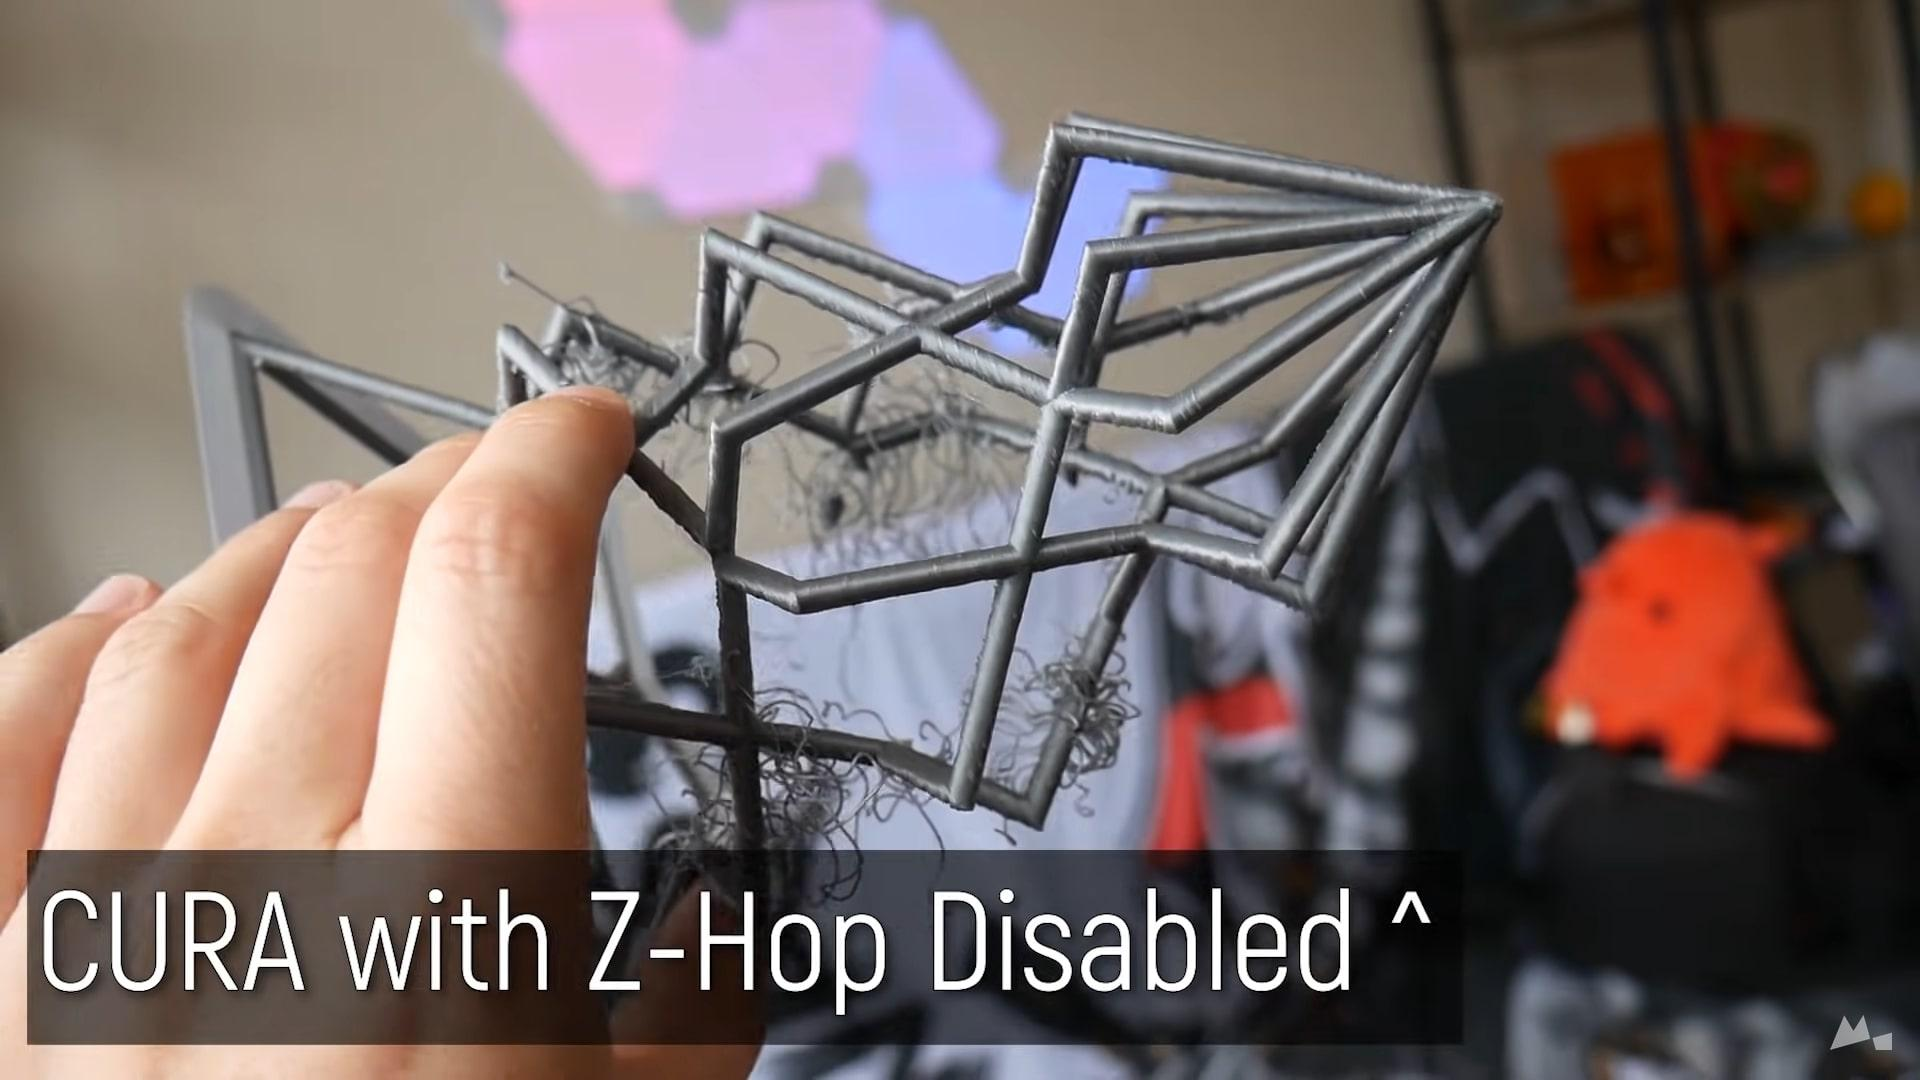Printing-Artifact: (622, 622, 1150, 907), (790, 382, 987, 568)
